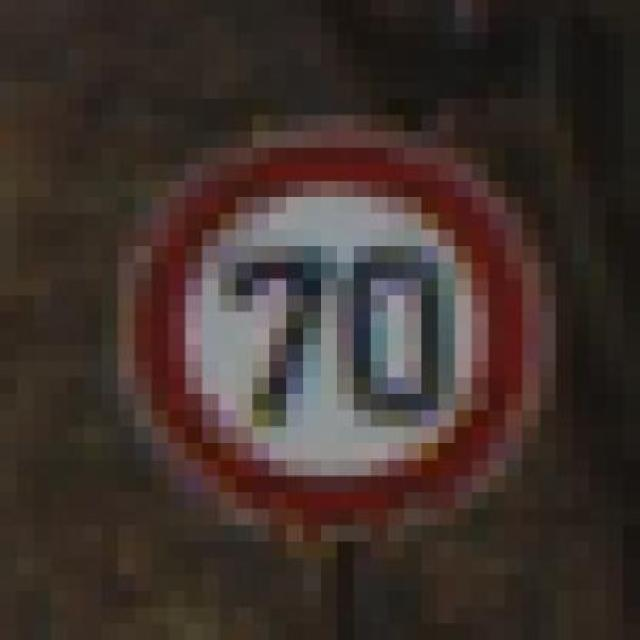forb_speed_over_70: (136, 138, 538, 525)
